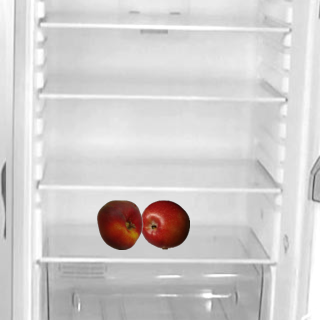Apple Braeburn: (139, 199, 189, 249)
Nectarine Flat: (94, 199, 144, 249)
